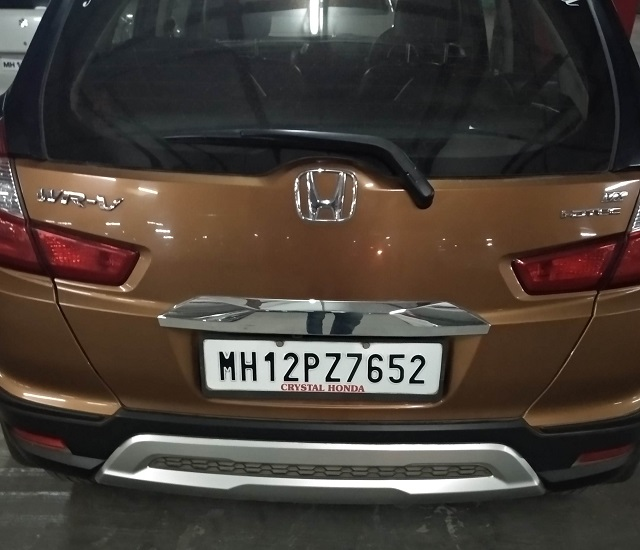licenseplate: (200, 333, 443, 397)
